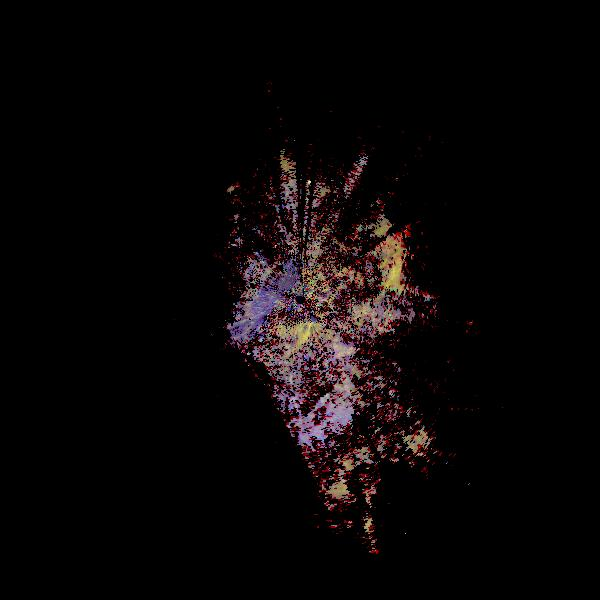roost: (336, 170, 501, 335)
